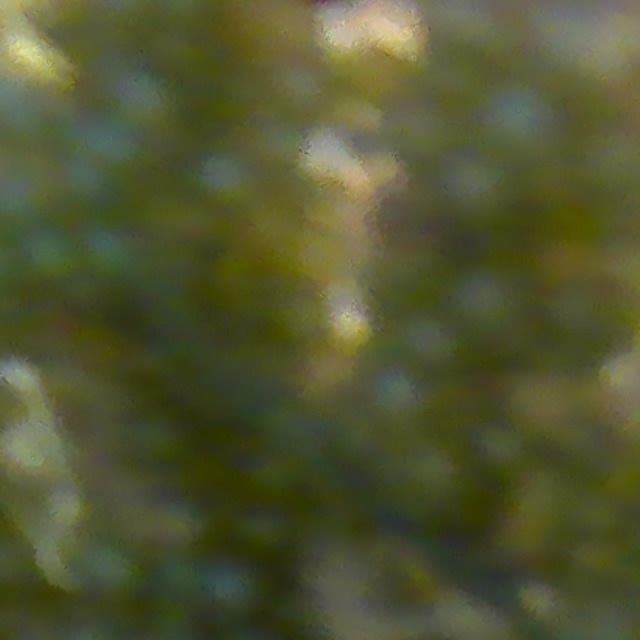SeaGrape: (389, 433, 477, 523), (455, 266, 533, 350), (484, 76, 559, 153), (363, 363, 437, 439), (189, 148, 265, 220), (442, 151, 512, 227), (390, 308, 464, 377), (79, 223, 146, 290), (112, 68, 177, 129), (20, 230, 78, 289), (0, 178, 34, 232)
